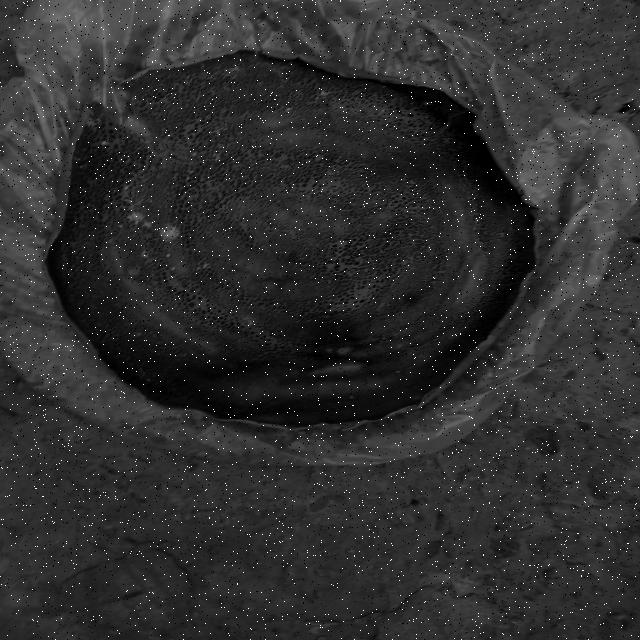injera_mold: (121, 186, 153, 210), (116, 211, 154, 228), (157, 223, 182, 243), (85, 108, 104, 129), (70, 151, 89, 171), (188, 258, 215, 272), (222, 64, 246, 78), (136, 368, 151, 384), (209, 126, 228, 137), (210, 149, 222, 161), (146, 99, 160, 109), (241, 317, 256, 326), (185, 167, 194, 181), (293, 90, 304, 100), (328, 167, 339, 176), (422, 100, 434, 108), (132, 331, 142, 338), (284, 106, 294, 113), (318, 90, 329, 96), (101, 138, 109, 146), (444, 138, 454, 144), (220, 86, 230, 92), (141, 251, 149, 258), (190, 150, 198, 157), (200, 72, 208, 79), (213, 64, 224, 69), (319, 109, 328, 115), (172, 84, 180, 90), (164, 253, 172, 258), (182, 78, 190, 83), (258, 62, 266, 67), (170, 266, 177, 271), (180, 354, 188, 358), (335, 158, 342, 162), (227, 59, 234, 63), (349, 396, 355, 400), (361, 154, 367, 157), (396, 370, 400, 374)
